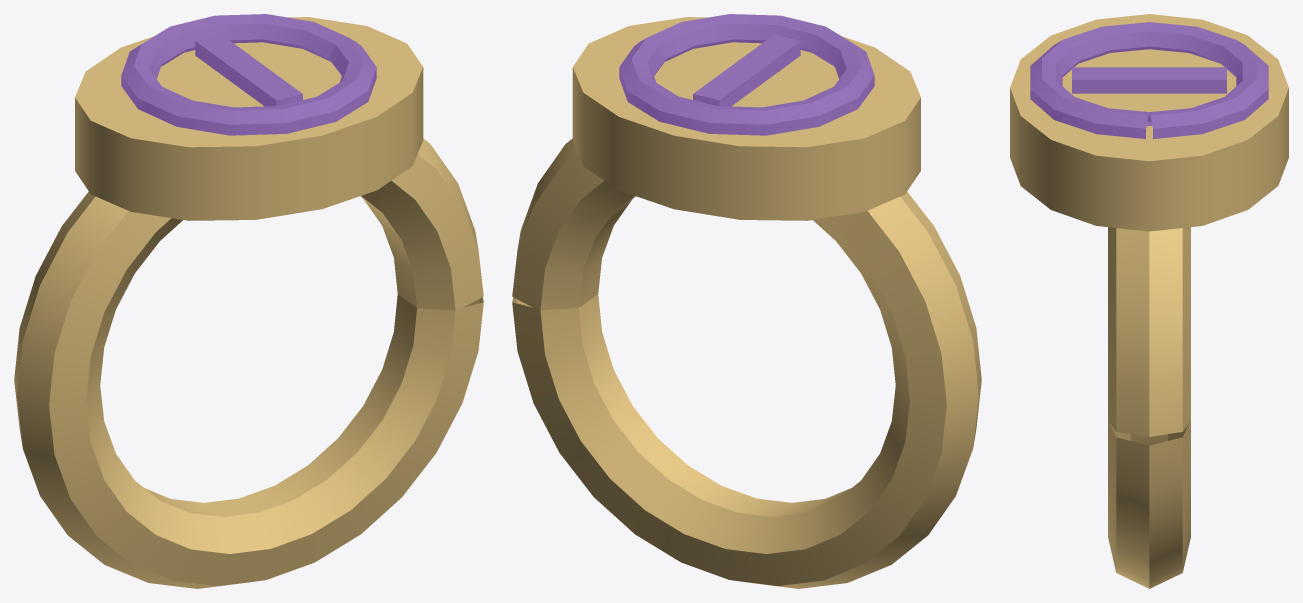
File: sigil_ring.glb
The picture shows the model from 3 angles, left to right: view 1: azimuth 30°, elevation 25°; view 2: azimuth 150°, elevation 25°; view 3: azimuth 270°, elevation 25°; orthographic projection. The views are drawn at different scales.
Visible parts, largest first — view 1: sigil_ring; view 2: sigil_ring; view 3: sigil_ring.
Boxes of the visible parts, bbox=[...] form: sigil_ring: bbox=[14, 14, 483, 588]; sigil_ring: bbox=[512, 14, 981, 588]; sigil_ring: bbox=[1010, 14, 1288, 588].
Bounding box in the file's own units: 0.0264 × 0.0283 × 0.0144.
